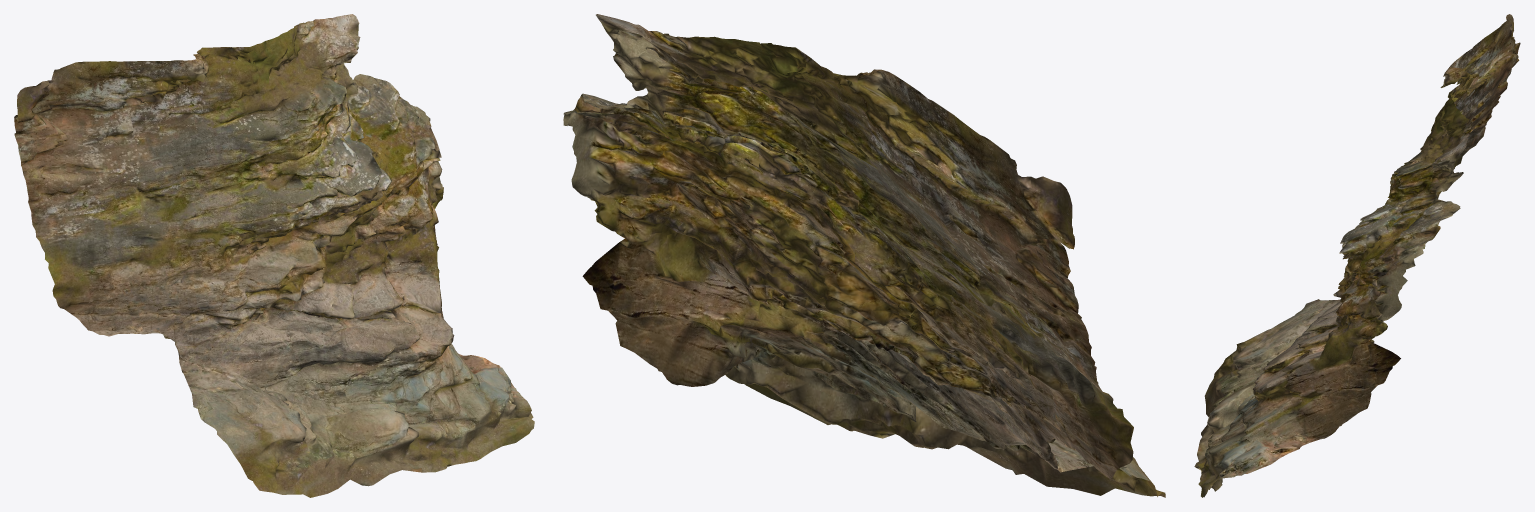
Rendered from rock_face_02.glb.
3 renders of one model, left to right at view 1: azimuth 30°, elevation 25°; view 2: azimuth 150°, elevation 25°; view 3: azimuth 270°, elevation 25°, orthographic. The views are drawn at different scales.
Parts seen in each view (by area): view 1: rock_face_02; view 2: rock_face_02; view 3: rock_face_02.
Part boxes in pixels (x1=…): rock_face_02: x1=14, y1=14, x2=534, y2=497; rock_face_02: x1=563, y1=14, x2=1165, y2=497; rock_face_02: x1=1194, y1=14, x2=1520, y2=497.
Bounding box in the file's own units: 2.71 × 2.47 × 2.13.
Materials: 1 (1 with a texture image).
